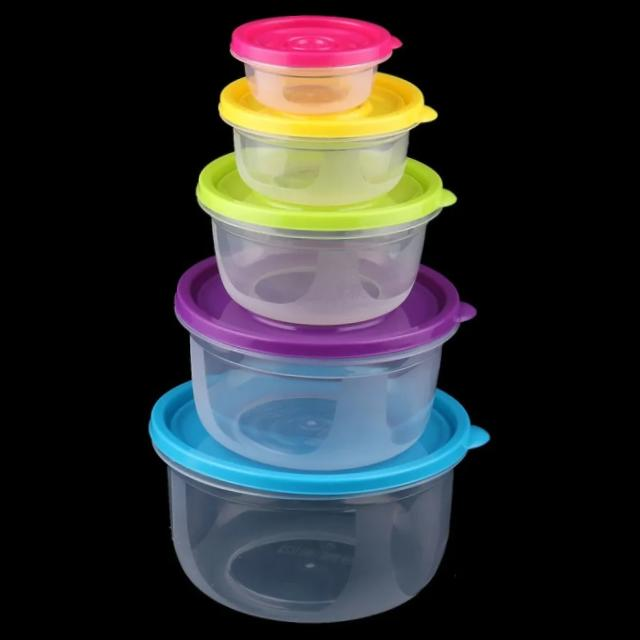plastic_box: (112, 14, 500, 630), (138, 254, 482, 492), (147, 390, 488, 630), (176, 136, 482, 346), (184, 74, 476, 221), (206, 12, 441, 128)
